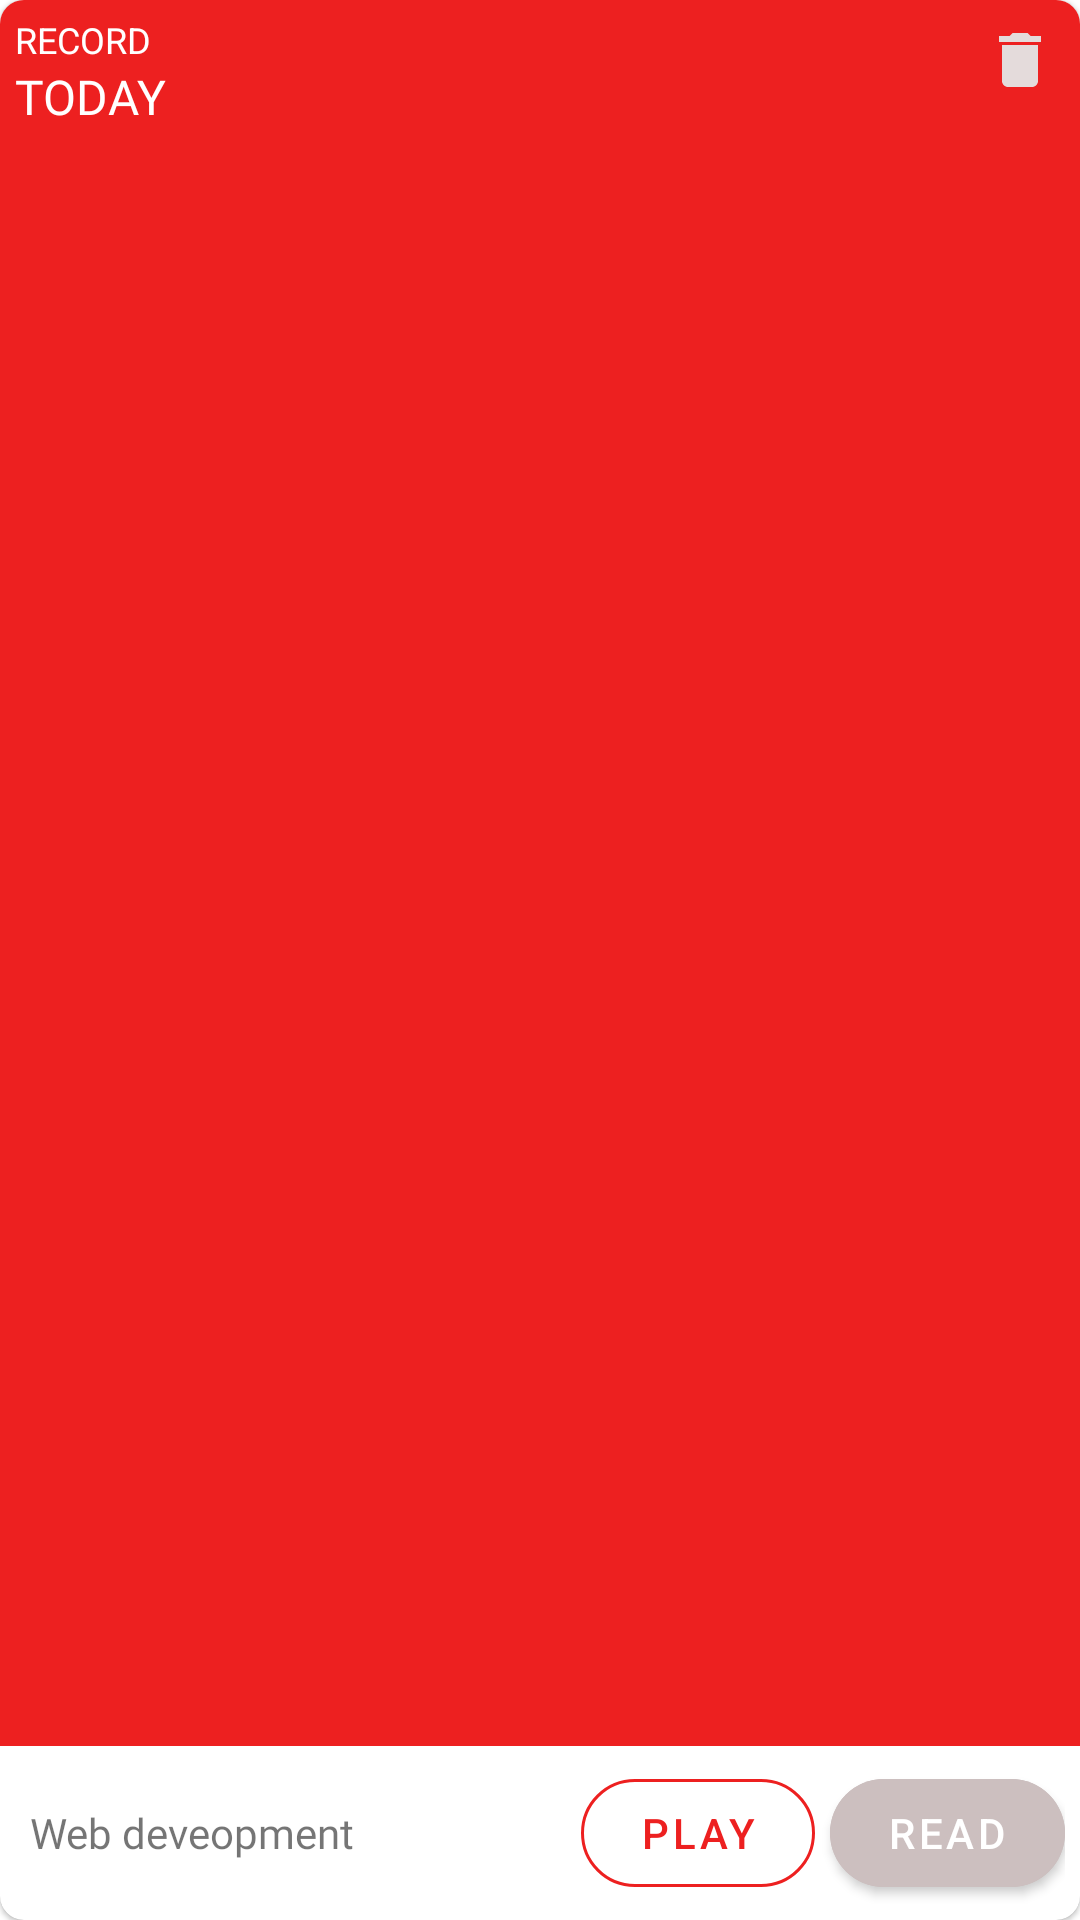

Point at icon controls on the screen. Image size 1080w x 1920h, points as [x,y].
delete: [1020,60]
